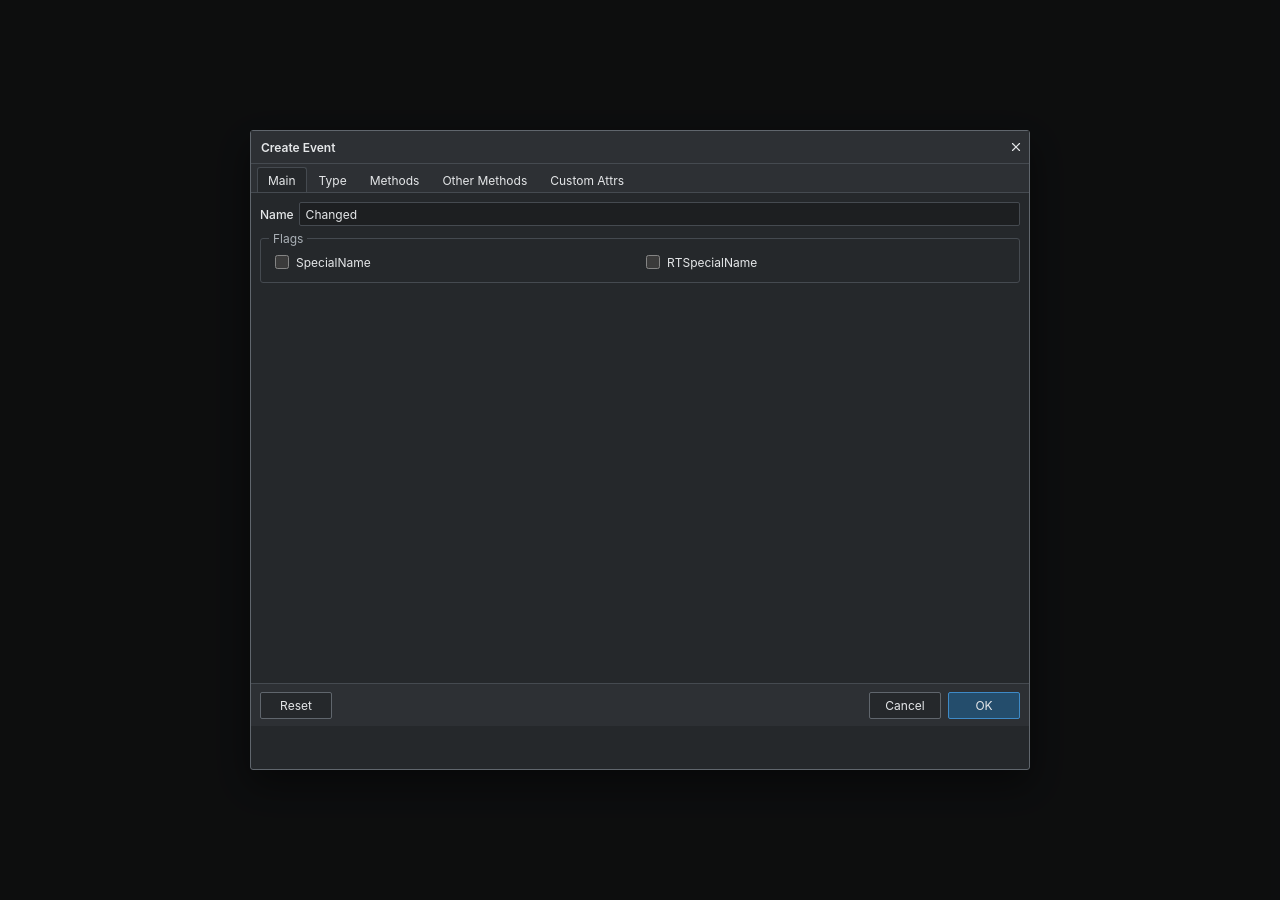
Test: EventOptionsDialog › shows the other methods under a list of their own
Click the tab "Other Methods".
click(485, 180)  # box [431,167,538,192]
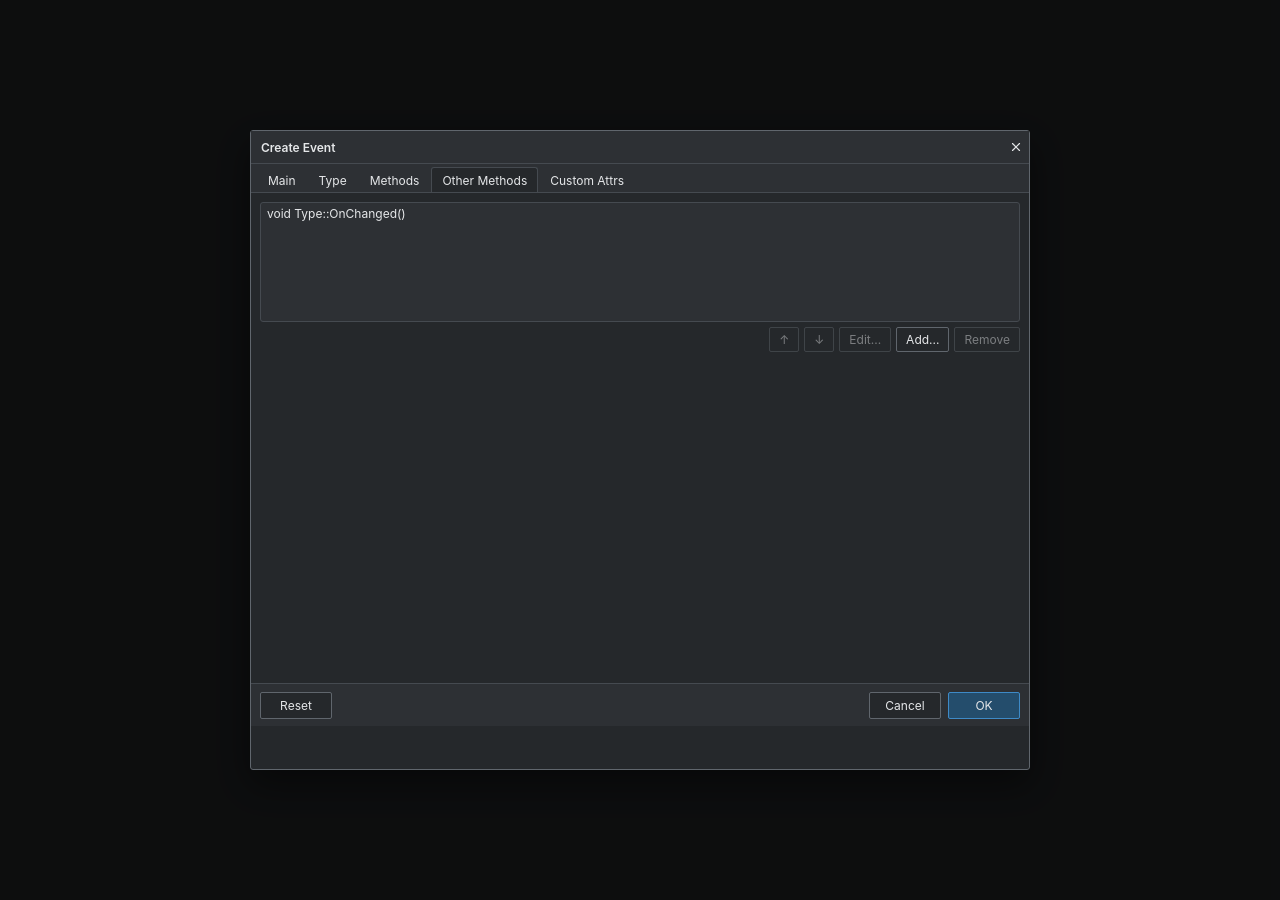
Expected: the options read "void Type::OnChanged()", in this order, [267,206,406,221]
